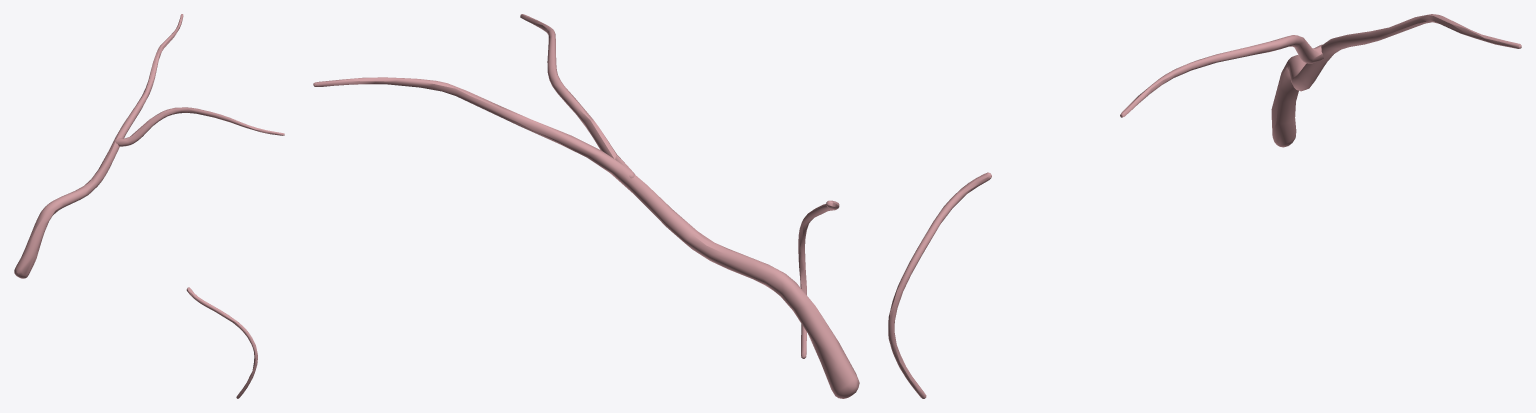
Rendered from fma71887_cx223.glb.
The picture shows the model from 3 angles, left to right: view 1: azimuth 30°, elevation 25°; view 2: azimuth 150°, elevation 25°; view 3: azimuth 270°, elevation 25°; orthographic projection. The views are drawn at different scales.
Visible parts, largest first — view 1: FMA71887_CX223; view 2: FMA71887_CX223; view 3: FMA71887_CX223.
Part boxes in pixels (x1,y1,x2,y2): FMA71887_CX223: [14, 14, 284, 398]; FMA71887_CX223: [313, 14, 859, 398]; FMA71887_CX223: [888, 14, 1521, 398].
Size of the model in its own units: 0.0539 by 0.0537 by 0.0687.
